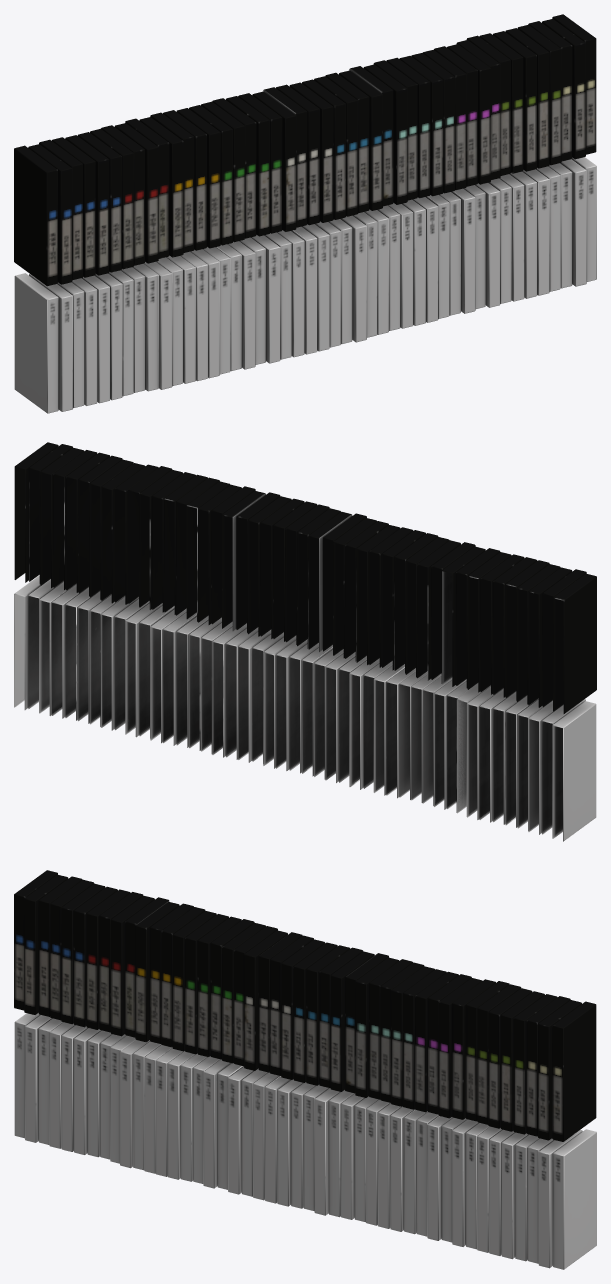
Rendered from video_store_vhs_02.fbx.
The picture shows the model from 3 angles, top to bottom: view 1: azimuth 30°, elevation 25°; view 2: azimuth 150°, elevation 25°; view 3: azimuth 330°, elevation 25°; orthographic projection.
Parts seen in each view (by area): view 1: Mesh19_Group21_Group2_Group1_Model; view 2: Mesh19_Group21_Group2_Group1_Model; view 3: Mesh19_Group21_Group2_Group1_Model.
Part boxes in pixels (bbox=[...]): Mesh19_Group21_Group2_Group1_Model: bbox=[14, 14, 596, 413]; Mesh19_Group21_Group2_Group1_Model: bbox=[14, 442, 596, 841]; Mesh19_Group21_Group2_Group1_Model: bbox=[14, 870, 596, 1269].
Bounding box in the file's own units: 95.74 × 40.2 × 11.25.
Materials: 1 (1 with a texture image).
